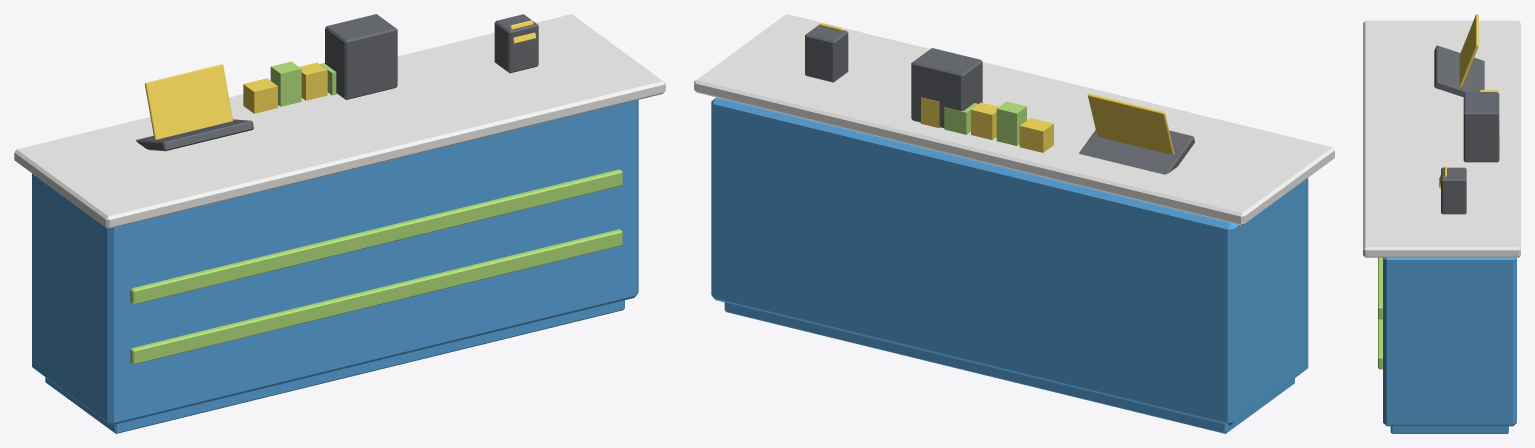
Rendered from trampoline-park-and-soft-play-reception-desk-with-scre-0903e88c__34633.glb.
3 renders of one model, left to right at view 1: azimuth 30°, elevation 25°; view 2: azimuth 150°, elevation 25°; view 3: azimuth 270°, elevation 25°, orthographic. The views are drawn at different scales.
Parts seen in each view (by area): view 1: reception-desk-with-screen; view 2: reception-desk-with-screen; view 3: reception-desk-with-screen.
Boxes of the visible parts, left/top/right/bottom form: reception-desk-with-screen: left=14, top=14, right=665, bottom=433; reception-desk-with-screen: left=694, top=14, right=1334, bottom=433; reception-desk-with-screen: left=1363, top=14, right=1520, bottom=433.
Size of the model in its own units: 2.74 by 1.38 by 0.8002.
